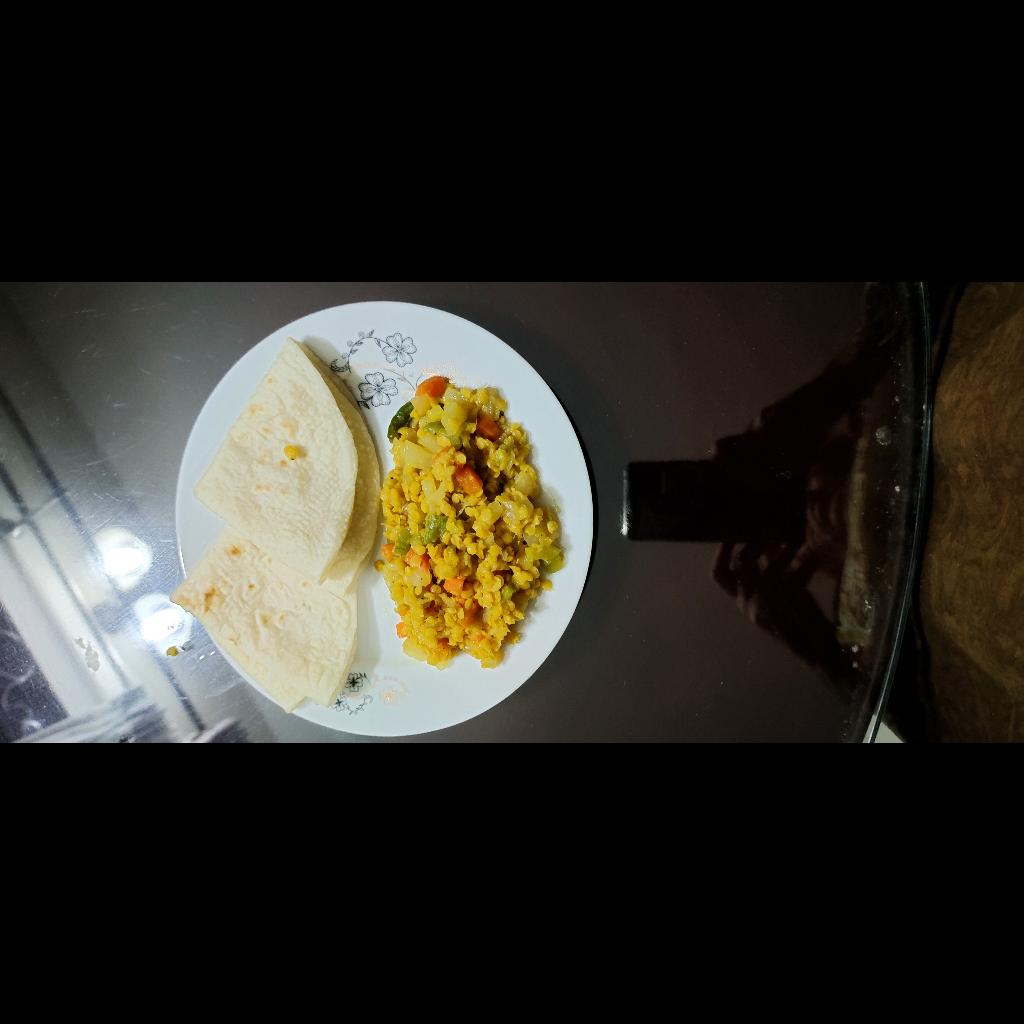daal: (66, 663, 278, 843), (254, 753, 350, 817)
khichuri: (258, 663, 367, 772)
ruti: (31, 445, 406, 661)
